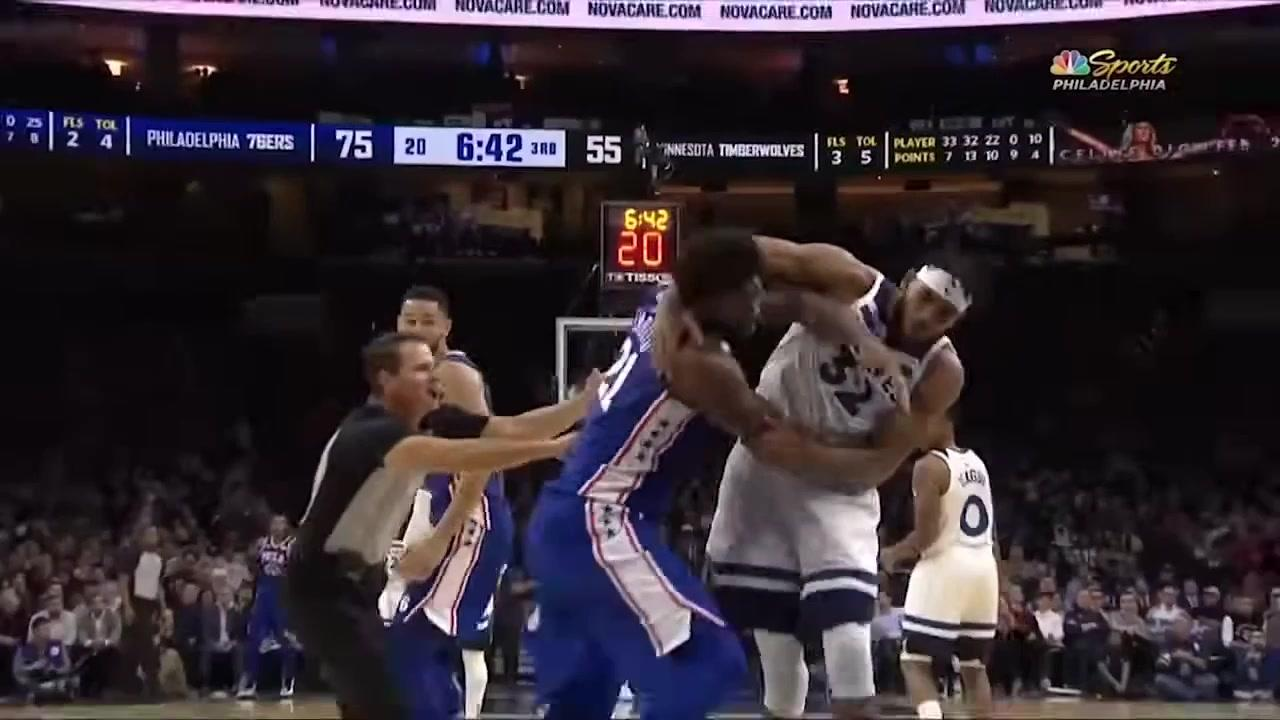foul: (530, 226, 991, 700)
